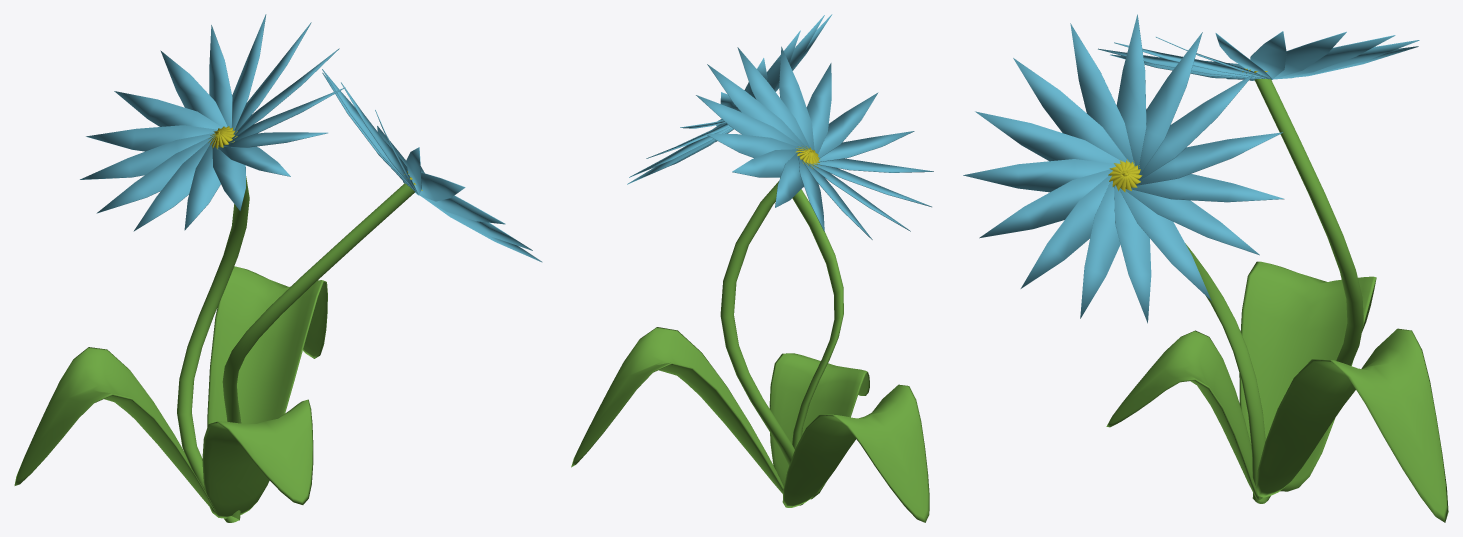
The model's file is flower7.glb.
3 renders of one model, left to right at view 1: azimuth 30°, elevation 25°; view 2: azimuth 150°, elevation 25°; view 3: azimuth 270°, elevation 25°, orthographic. The views are drawn at different scales.
Visible parts, largest first — view 1: Plane, Plane.001, Plane.008, BézierCurve.001, BézierCurve; view 2: Plane, Plane.001, BézierCurve, Plane.008, BézierCurve.001; view 3: Plane.008, Plane, Plane.001, BézierCurve, BézierCurve.001.
Boxes of the visible parts, <box> form: Plane: <box>14,266,327,518</box>; Plane.001: <box>80,14,345,231</box>; Plane.008: <box>322,69,542,262</box>; BézierCurve.001: <box>222,182,415,520</box>; BézierCurve: <box>177,176,249,522</box>; Plane: <box>571,327,929,522</box>; Plane.001: <box>696,46,933,239</box>; BézierCurve: <box>720,181,803,505</box>; Plane.008: <box>627,14,832,184</box>; BézierCurve.001: <box>792,189,843,449</box>; Plane.008: <box>963,14,1284,323</box>; Plane: <box>1106,261,1448,522</box>; Plane.001: <box>1098,31,1419,80</box>; BézierCurve: <box>1252,78,1363,501</box>; BézierCurve.001: <box>1185,243,1266,503</box>.
Size of the model in its own units: 0.3217 by 0.3606 by 0.3065.
